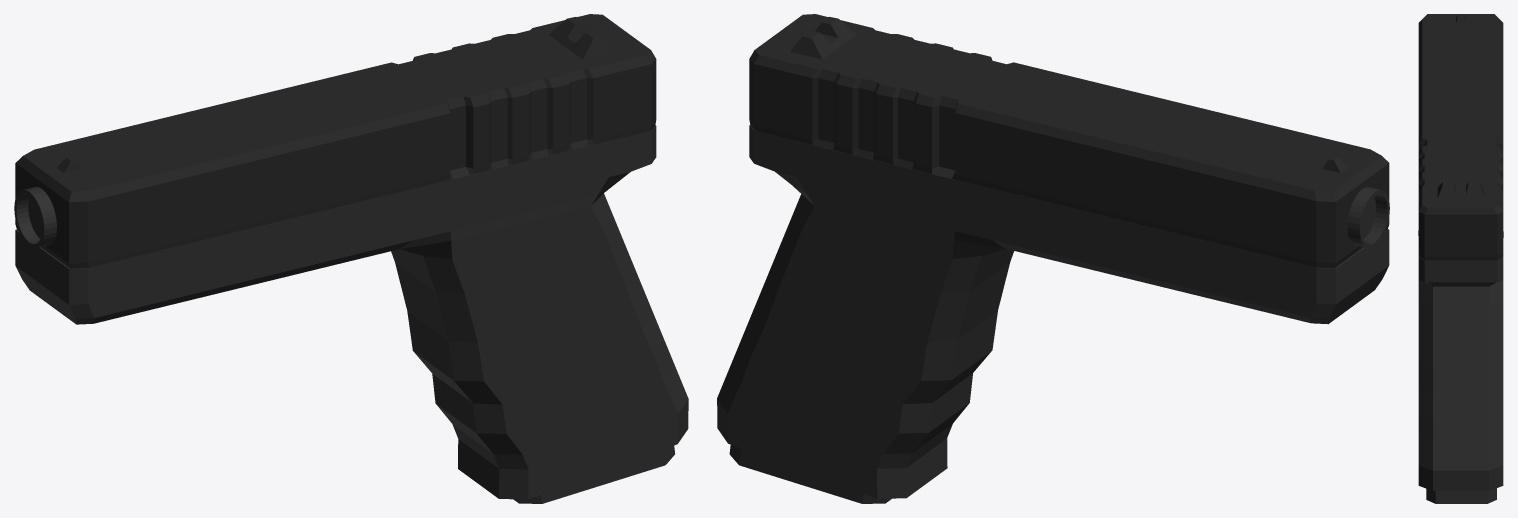
Rendered from OG-Glock.fbx.
3 views of the same model, side by side, from view 1: azimuth 30°, elevation 25°; view 2: azimuth 150°, elevation 25°; view 3: azimuth 270°, elevation 25° (orthographic). The views are drawn at different scales.
Parts seen in each view (by area): view 1: Cube; view 2: Cube; view 3: Cube.
Part boxes in pixels (x1=…): Cube: x1=14, y1=14, x2=688, y2=503; Cube: x1=717, y1=14, x2=1389, y2=503; Cube: x1=1418, y1=14, x2=1503, y2=503.
Bounding box in the file's own units: 925 × 612 × 155.
Materials: 1 (1 with a texture image).
